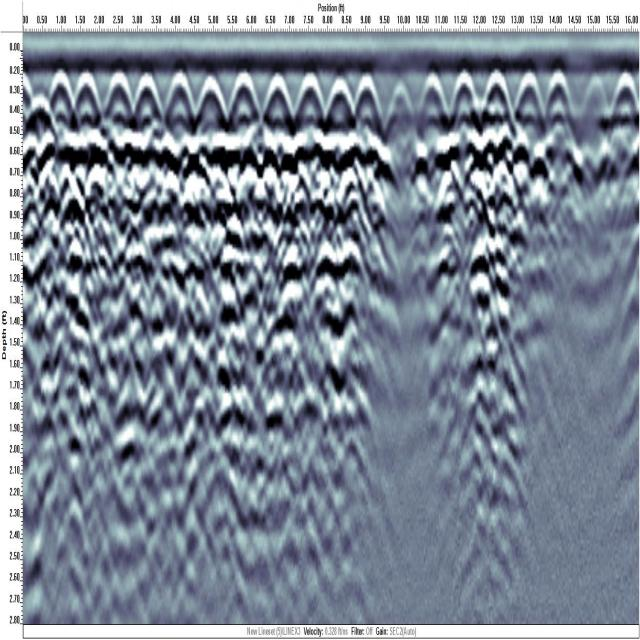hyperbola: (225, 67, 264, 126), (478, 68, 516, 128), (445, 70, 484, 128), (160, 69, 198, 128), (191, 70, 231, 125), (100, 70, 138, 127), (353, 68, 385, 134), (74, 63, 106, 128), (46, 67, 81, 126), (292, 72, 328, 128), (324, 67, 355, 132), (512, 68, 544, 130), (606, 67, 640, 124), (131, 70, 164, 128), (262, 71, 296, 126), (542, 69, 574, 123)
